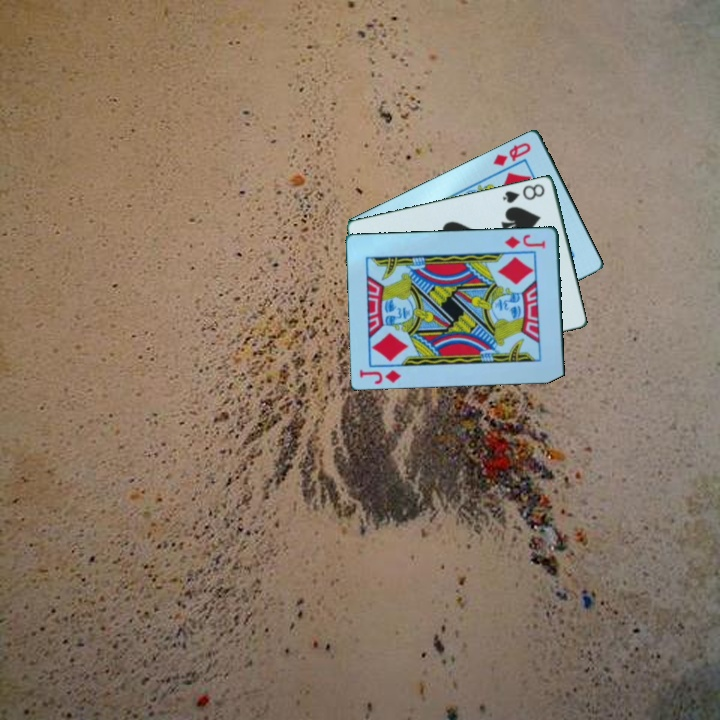8s: (499, 180, 548, 206)
Jd: (356, 366, 404, 387), (501, 231, 548, 251)
Qd: (489, 138, 534, 168)
